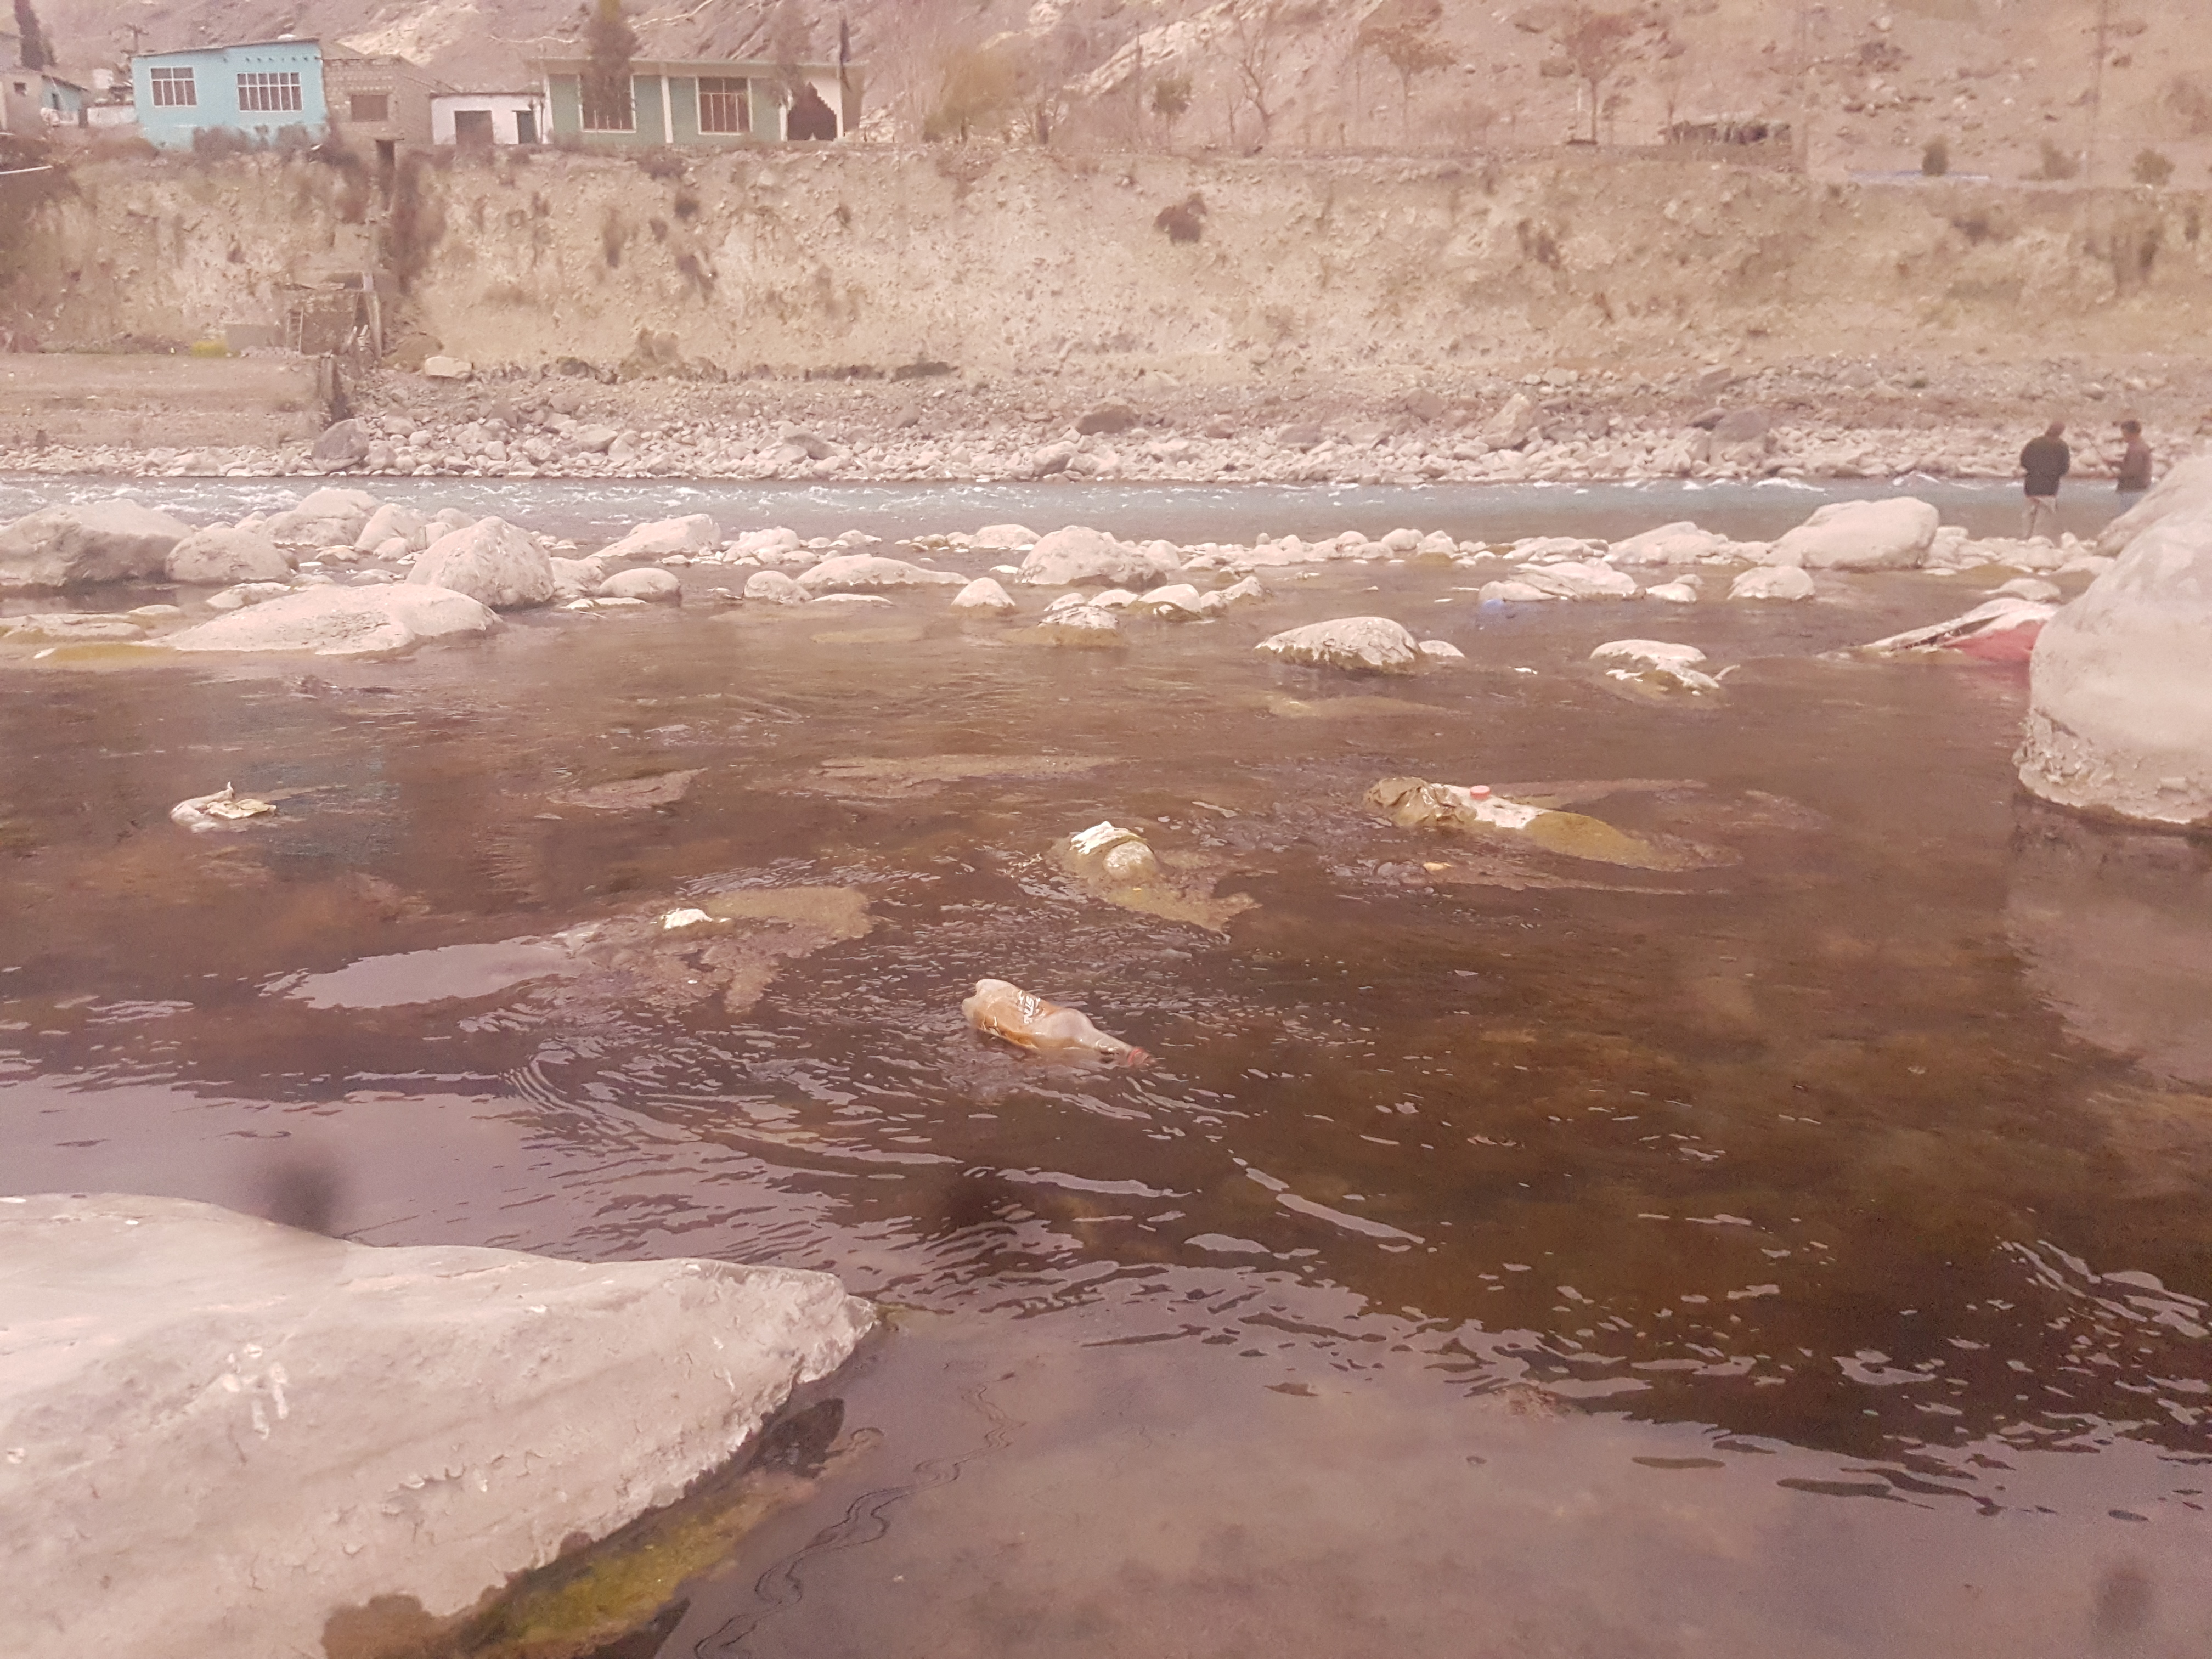Plastic Bottle: (961, 978, 1150, 1063), (1484, 598, 1503, 605)
